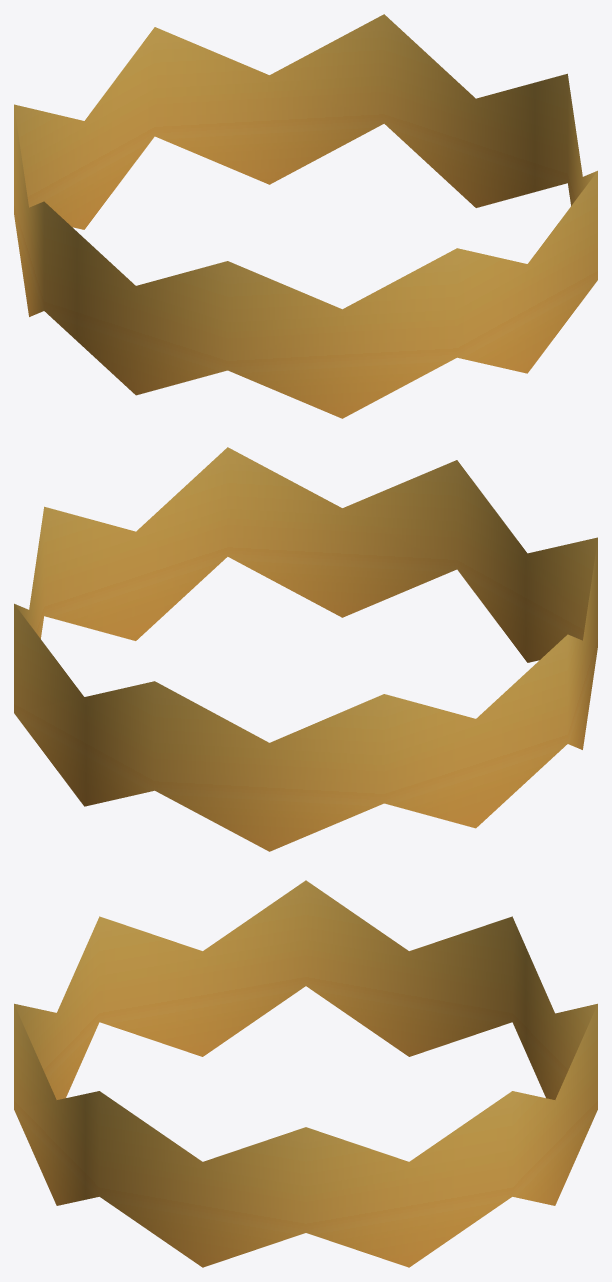
File: indicator-round-e.glb
3 views of the same model, one above another, from view 1: azimuth 30°, elevation 25°; view 2: azimuth 150°, elevation 25°; view 3: azimuth 270°, elevation 25° (orthographic). The views are drawn at different scales.
Visible parts, largest first — view 1: rotate-y; view 2: rotate-y; view 3: rotate-y.
Part boxes in pixels (x1=…): rotate-y: x1=14, y1=14, x2=597, y2=418; rotate-y: x1=14, y1=447, x2=597, y2=851; rotate-y: x1=14, y1=880, x2=597, y2=1267.
Bounding box in the file's own units: 1 × 0.3 × 1.
Materials: 1 (1 with a texture image).
